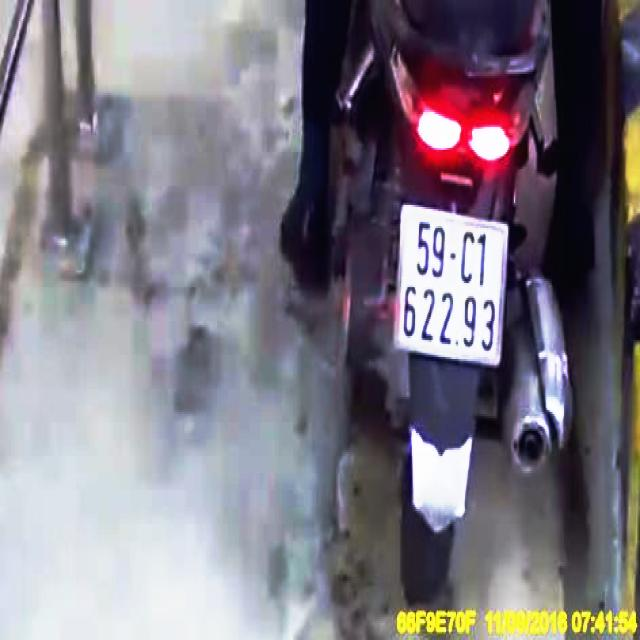license_plate: (396, 206, 509, 370)
